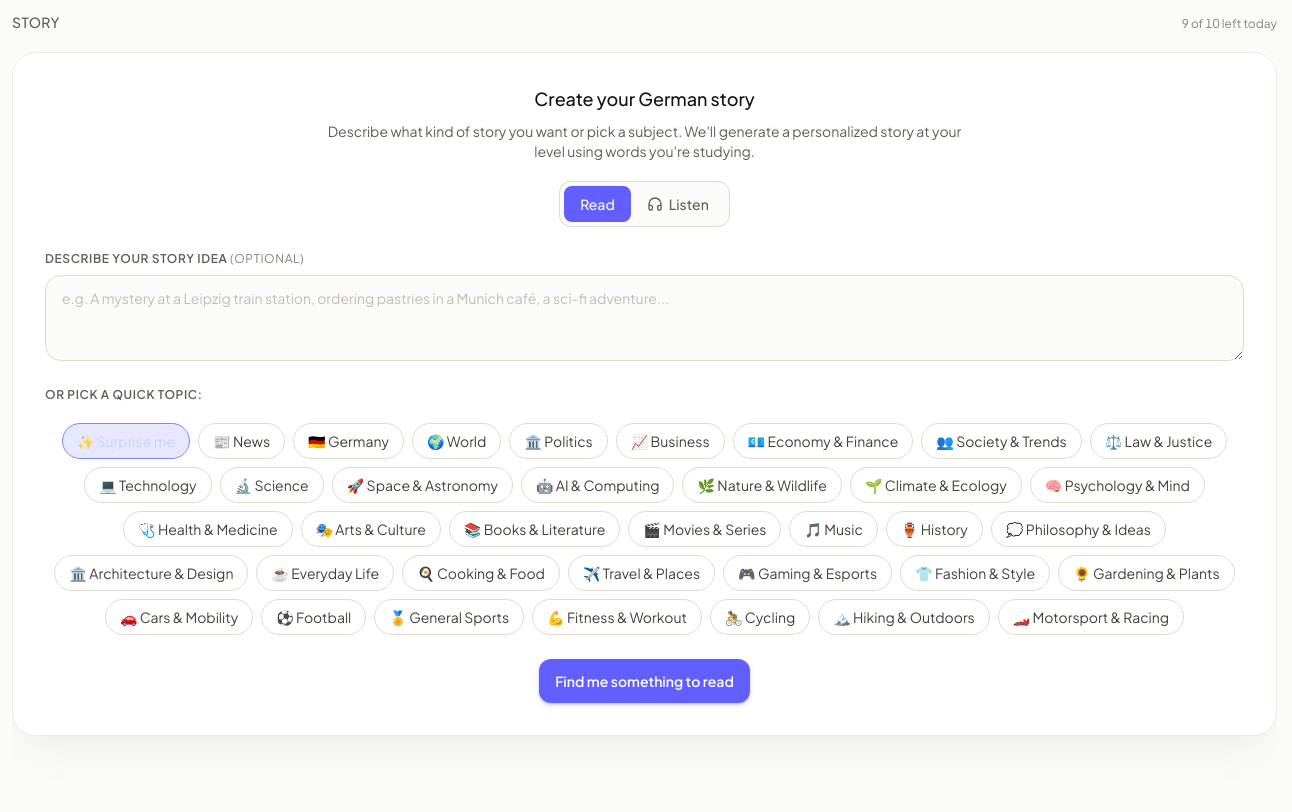
StoryPage › points at the library when there are no words to build from
Step 1. Click the button "Find me something to read" → (644, 681), box [539,659,750,703]
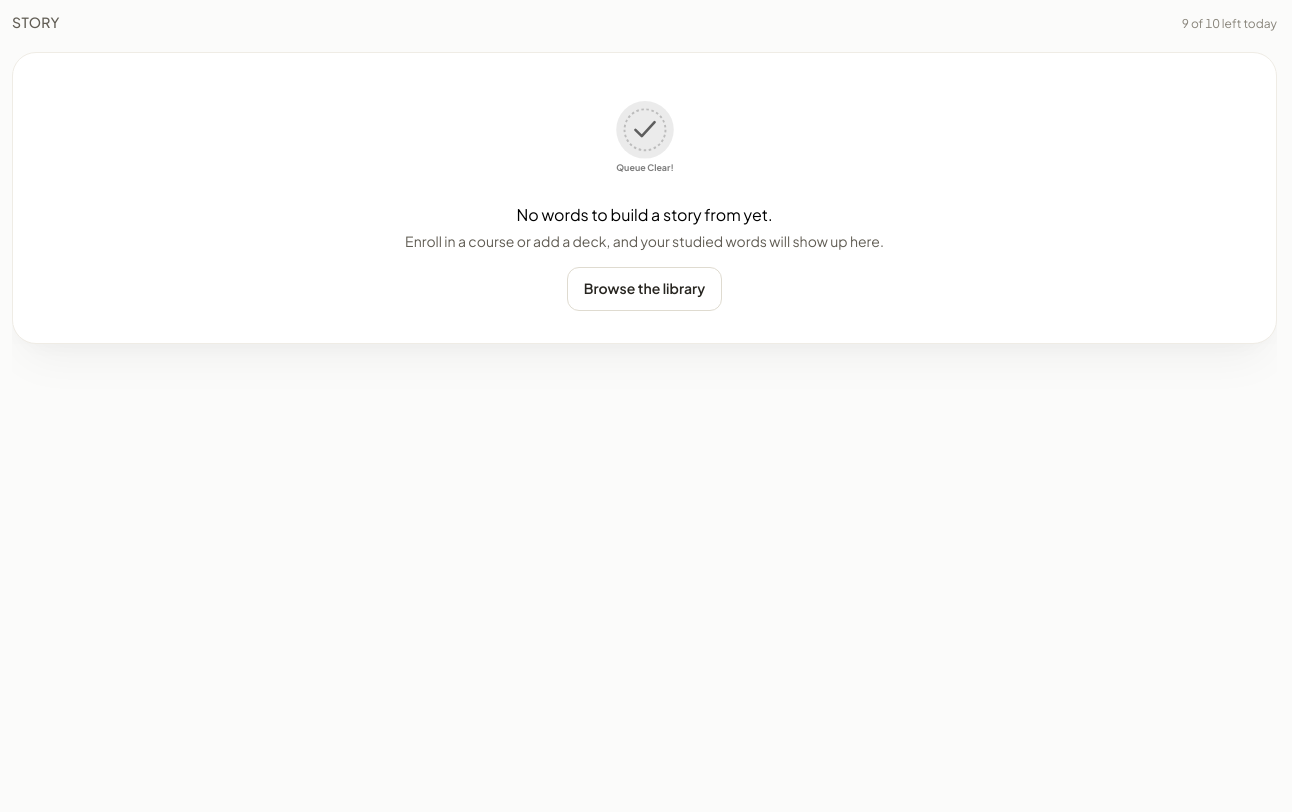
Now the text "No words to build a story from yet." is shown, box [516,204,772,225]
